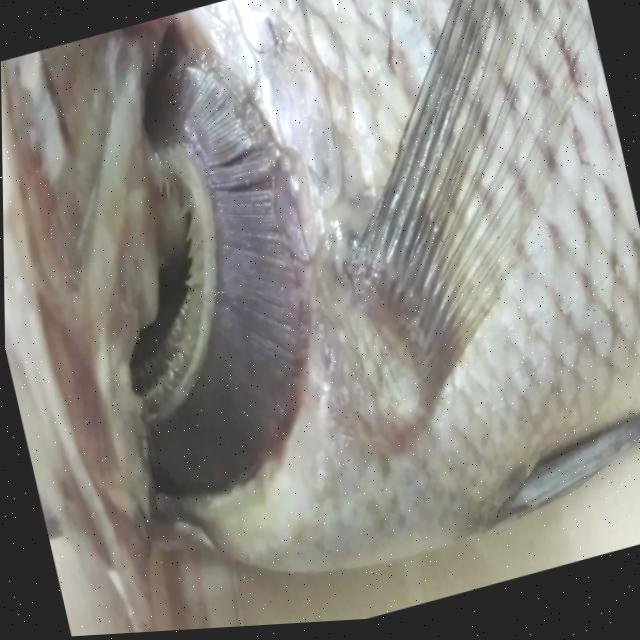Non-Fresh: (61, 24, 371, 508)
